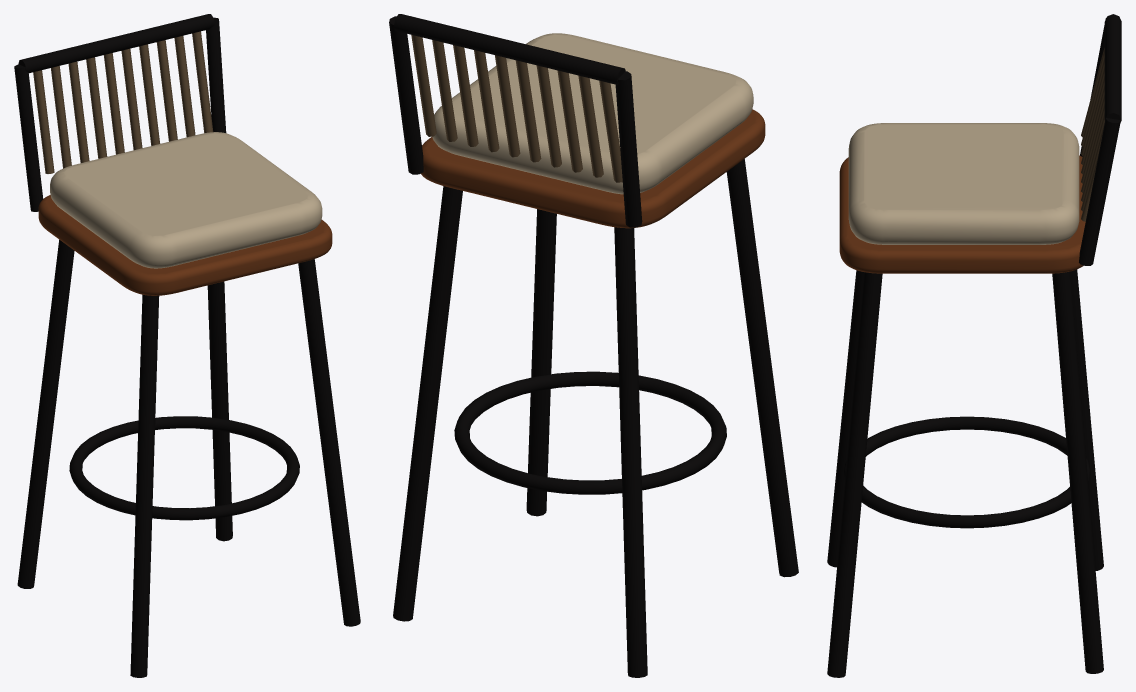
Rendered from bar-stool-lod0.glb.
3 views of the same model, side by side, from view 1: azimuth 30°, elevation 25°; view 2: azimuth 150°, elevation 25°; view 3: azimuth 270°, elevation 25° (orthographic). The views are drawn at different scales.
Parts seen in each view (by area): view 1: Powder-coated bronze aluminium, Oatmeal performance fabric, Woven taupe rope, Oiled teak; view 2: Powder-coated bronze aluminium, Oatmeal performance fabric, Oiled teak, Woven taupe rope; view 3: Powder-coated bronze aluminium, Oatmeal performance fabric, Oiled teak, Woven taupe rope.
Part boxes in pixels (x1=…): Powder-coated bronze aluminium: x1=14, y1=14, x2=360, y2=677; Oatmeal performance fabric: x1=50, y1=132, x2=322, y2=268; Woven taupe rope: x1=33, y1=31, x2=213, y2=173; Oiled teak: x1=38, y1=195, x2=332, y2=295; Powder-coated bronze aluminium: x1=389, y1=14, x2=798, y2=677; Oatmeal performance fabric: x1=432, y1=33, x2=753, y2=194; Oiled teak: x1=421, y1=109, x2=765, y2=228; Woven taupe rope: x1=411, y1=35, x2=622, y2=182; Powder-coated bronze aluminium: x1=827, y1=14, x2=1121, y2=677; Oatmeal performance fabric: x1=848, y1=123, x2=1079, y2=244; Oiled teak: x1=839, y1=155, x2=1085, y2=273; Woven taupe rope: x1=1081, y1=48, x2=1104, y2=221.
Size of the model in its own units: 0.4658 by 1.01 by 0.4864.
